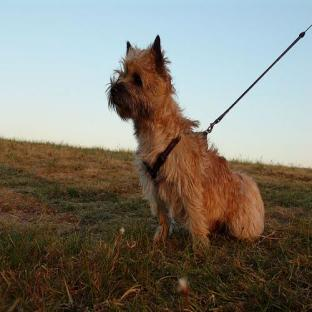Animal: (108, 35, 264, 245)
